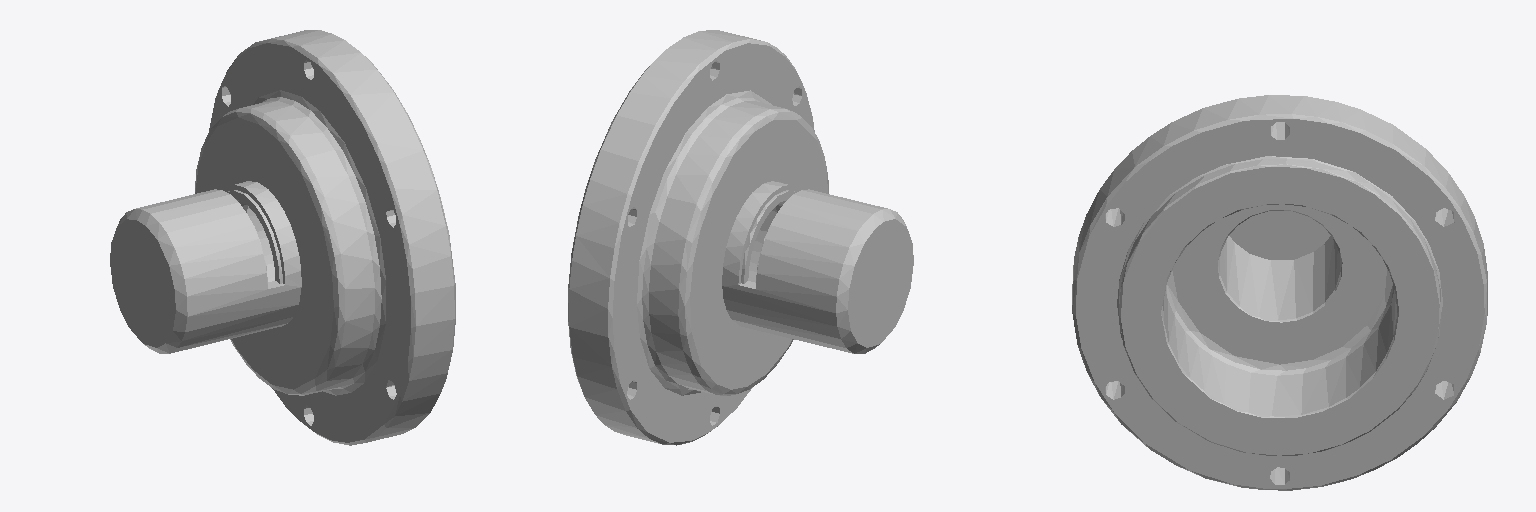
3 views of the same model, side by side, from view 1: azimuth 30°, elevation 25°; view 2: azimuth 150°, elevation 25°; view 3: azimuth 270°, elevation 25° (orthographic).
Visible parts, largest first — view 1: imagetostl_mesh0; view 2: imagetostl_mesh0; view 3: imagetostl_mesh0.
Boxes of the visible parts, x1,y1,x2,y2 form: imagetostl_mesh0: [110, 30, 455, 445]; imagetostl_mesh0: [568, 30, 913, 445]; imagetostl_mesh0: [1072, 95, 1487, 490].
Size of the model in its own units: 151 by 240 by 240.